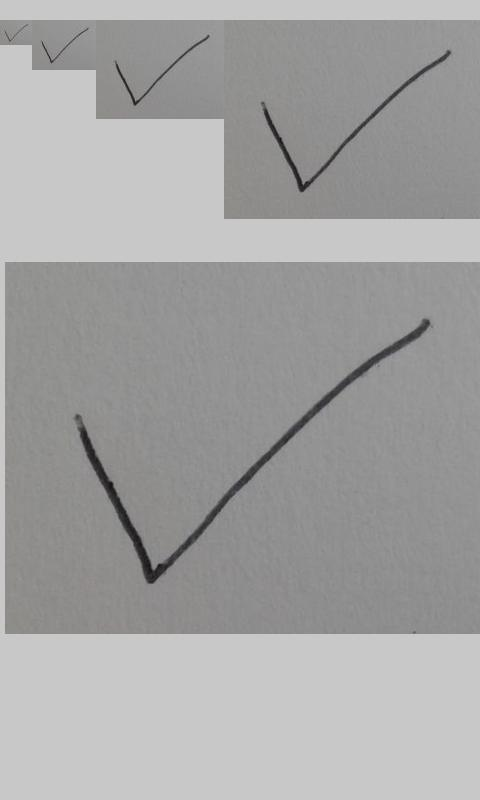check_box: (72, 317, 433, 587), (261, 50, 451, 192), (115, 35, 209, 106), (41, 28, 89, 63), (4, 24, 29, 42)
